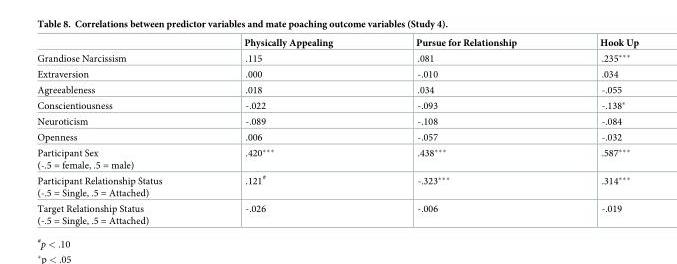table: (36, 37, 638, 225)
table column: (373, 37, 557, 225), (202, 37, 373, 225), (36, 37, 202, 225), (557, 37, 638, 225)
table column header: (36, 37, 638, 49)
table row: (36, 171, 638, 200), (36, 144, 638, 171), (36, 200, 638, 225), (36, 49, 638, 66), (36, 96, 638, 113), (36, 113, 638, 129), (36, 66, 638, 81), (36, 81, 638, 96), (36, 129, 638, 144), (36, 37, 638, 49)
